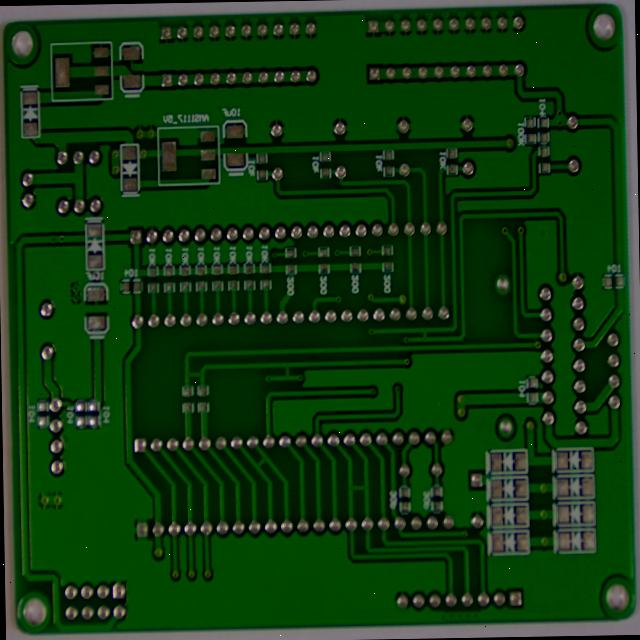short: (198, 307, 236, 330), (385, 442, 414, 468), (464, 258, 482, 284), (279, 413, 300, 435), (311, 303, 326, 328)
